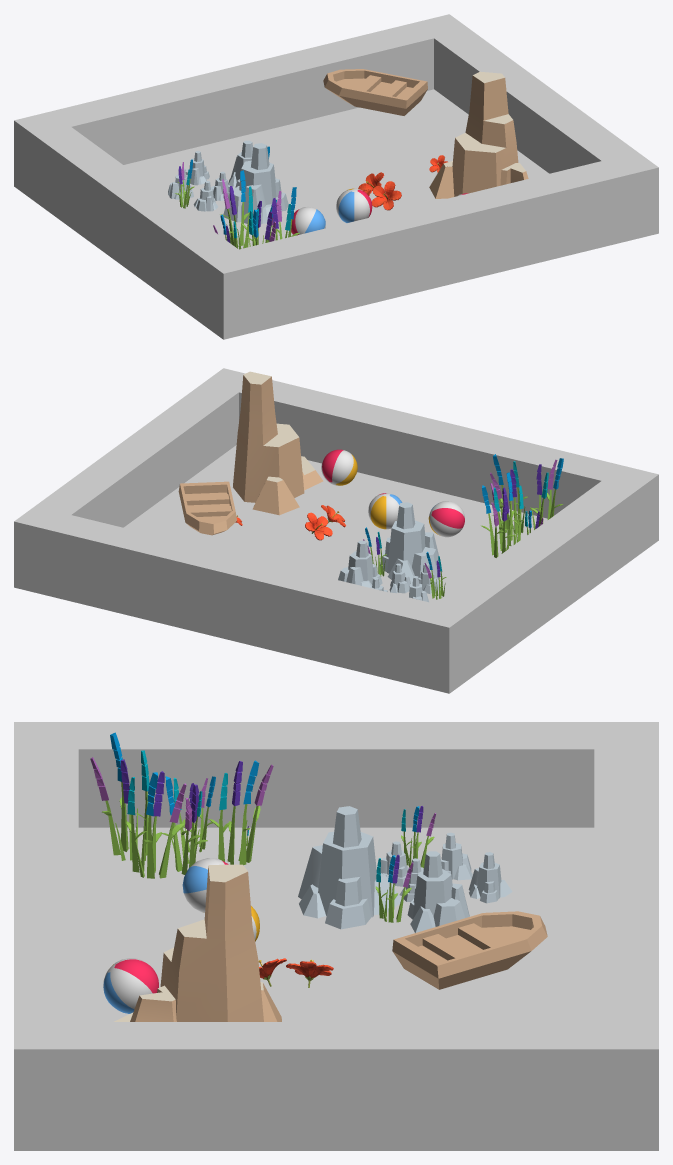
File: test_enviro.glb
The picture shows the model from 3 angles, top to bottom: view 1: azimuth 30°, elevation 25°; view 2: azimuth 150°, elevation 25°; view 3: azimuth 270°, elevation 25°; orthographic projection. The views are drawn at different scales.
Parts seen in each view (by area): view 1: Cube.003, Cube.001, Cube, Cube.004, Cube.002, formationLarge_rock, boat_large_8angles, formation_stone.004, Node.005, ball, ball.002, Node.007 (+4 smaller); view 2: Cube, Cube.001, Cube.003, Cube.004, Cube.002, formationLarge_rock, formation_stone.004, boat_large_8angles, formation_stone.005, ball.001, ball.002, Node.005 (+5 smaller); view 3: Cube.002, Cube.004, Cube.001, Cube, Cube.003, formationLarge_rock, boat_large_8angles, formation_stone.004, formation_stone.005, Node.007, Node.005, Node.002 (+9 smaller).
Part boxes in pixels (x1=…): Cube.003: x1=239, y1=161, x2=622, y2=330; Cube.001: x1=14, y1=111, x2=259, y2=339; Cube: x1=50, y1=23, x2=433, y2=164; Cube.004: x1=124, y1=89, x2=549, y2=249; Cube.002: x1=413, y1=14, x2=658, y2=242; formationLarge_rock: x1=429, y1=71, x2=528, y2=198; boat_large_8angles: x1=323, y1=69, x2=427, y2=115; formation_stone.004: x1=223, y1=143, x2=288, y2=224; Node.005: x1=220, y1=170, x2=252, y2=249; ball: x1=336, y1=188, x2=372, y2=222; ball.002: x1=291, y1=207, x2=325, y2=235; Node.007: x1=271, y1=187, x2=299, y2=240; Cube: x1=50, y1=515, x2=433, y2=684; Cube.001: x1=413, y1=465, x2=658, y2=693; Cube.003: x1=239, y1=380, x2=622, y2=518; Cube.004: x1=123, y1=445, x2=547, y2=603; Cube.002: x1=14, y1=368, x2=244, y2=596; formationLarge_rock: x1=233, y1=371, x2=323, y2=515; formation_stone.004: x1=380, y1=502, x2=442, y2=583; boat_large_8angles: x1=178, y1=481, x2=236, y2=535; formation_stone.005: x1=338, y1=540, x2=382, y2=587; ball.001: x1=321, y1=449, x2=357, y2=485; ball.002: x1=428, y1=501, x2=464, y2=537; Node.005: x1=481, y1=485, x2=514, y2=557; Cube.002: x1=14, y1=1022, x2=658, y2=1150; Cube.004: x1=78, y1=827, x2=594, y2=1021; Cube.001: x1=14, y1=722, x2=658, y2=827; Cube: x1=594, y1=749, x2=658, y2=1021; Cube.003: x1=14, y1=749, x2=78, y2=1021; formationLarge_rock: x1=114, y1=864, x2=281, y2=1021; boat_large_8angles: x1=392, y1=911, x2=547, y2=989; formation_stone.004: x1=298, y1=806, x2=401, y2=929; formation_stone.005: x1=407, y1=851, x2=469, y2=932; Node.007: x1=126, y1=771, x2=186, y2=878; Node.005: x1=208, y1=760, x2=273, y2=865; Node.002: x1=90, y1=732, x2=149, y2=860.
Size of the model in its own units: 27.6 by 7.95 by 23.
Materials: 16 (3 with a texture image).
